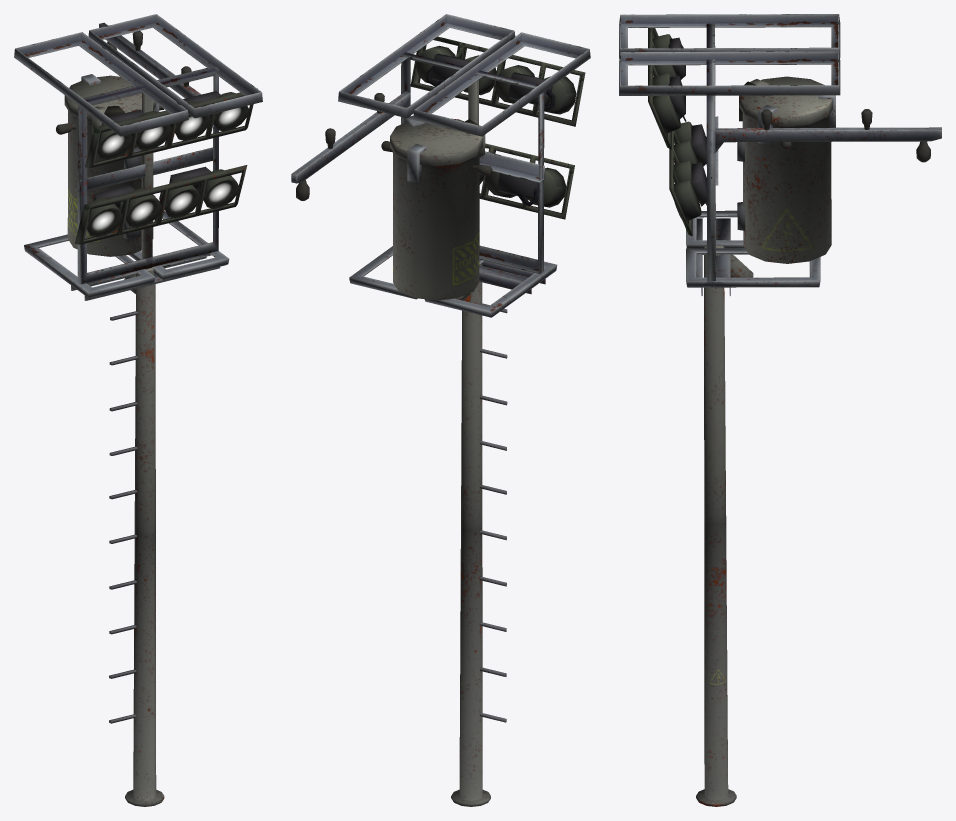
The model's file is low_poly_reflector.glb.
The picture shows the model from 3 angles, left to right: view 1: azimuth 30°, elevation 25°; view 2: azimuth 150°, elevation 25°; view 3: azimuth 270°, elevation 25°; orthographic projection. The views are drawn at different scales.
Parts seen in each view (by area): view 1: bars_LP; view 2: bars_LP; view 3: bars_LP.
Part boxes in pixels (left/top/right/bottom): bars_LP: left=14, top=14, right=262, bottom=806; bars_LP: left=291, top=14, right=590, bottom=806; bars_LP: left=619, top=14, right=941, bottom=806.
Bounding box in the file's own units: 1.88 × 8 × 3.12.
1 material, 1 textured.
